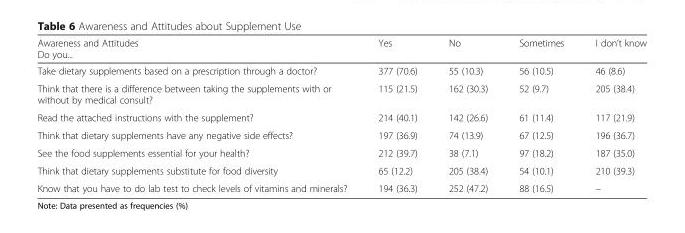table: (36, 36, 646, 193)
table column: (36, 36, 361, 193), (502, 36, 579, 193), (361, 36, 432, 193), (432, 36, 502, 193), (579, 36, 646, 193)
table column header: (36, 36, 646, 62)
table row: (36, 79, 646, 108), (36, 36, 646, 62), (36, 108, 646, 126), (36, 143, 646, 161), (36, 161, 646, 179), (36, 62, 646, 79), (36, 126, 646, 143), (36, 179, 646, 193)
